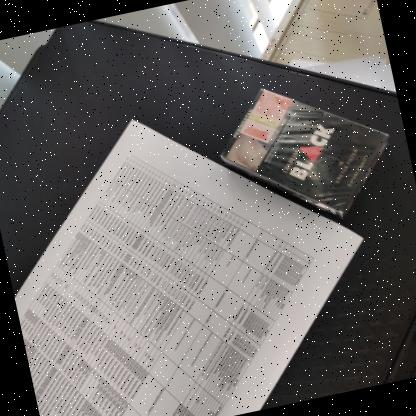bungkus rokok: (202, 64, 404, 242)
